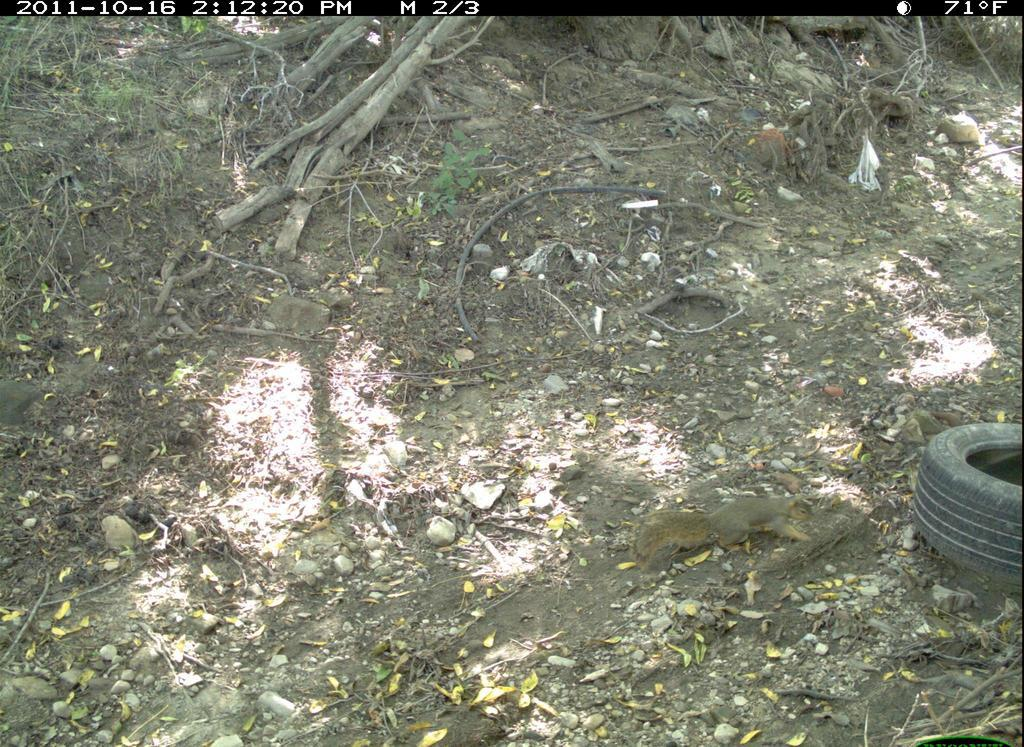squirrel: (621, 488, 845, 562)
